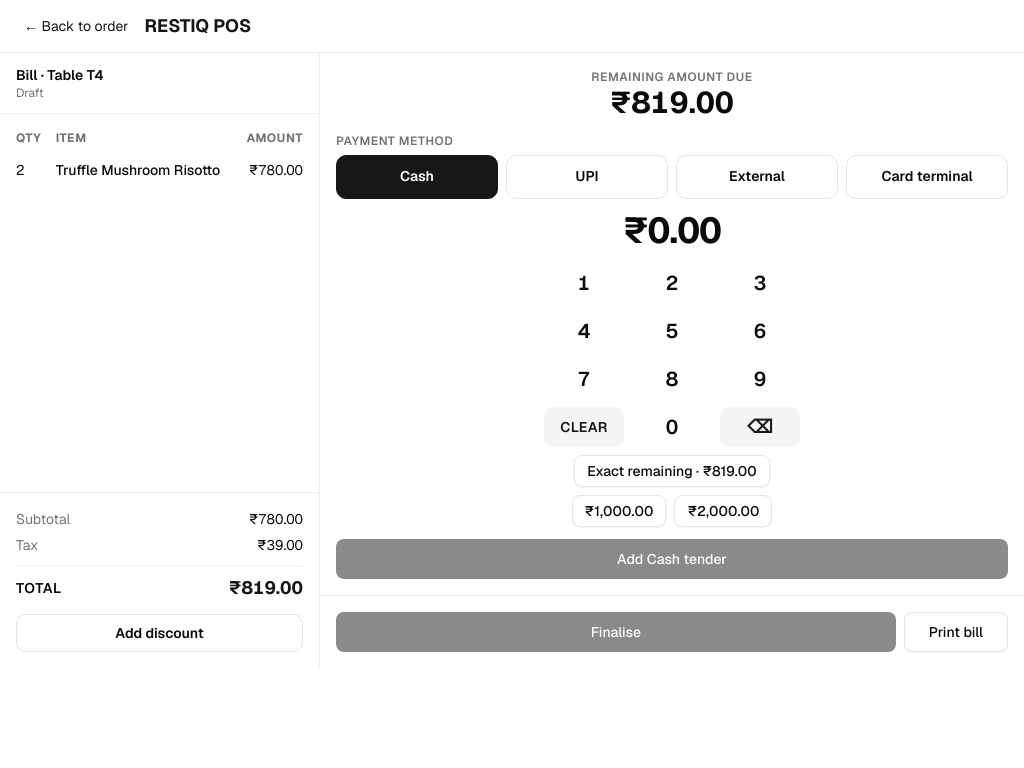
Test: BillSettleView - tenders › keys whole rupees and shows the amount live while typing (issues #306, #406)
The image size is (1024, 768).
Expected: the element with test id "bill-summary" is shown, [0,53,320,668]
Click the button "6": [760, 330] box [720,310,800,350]
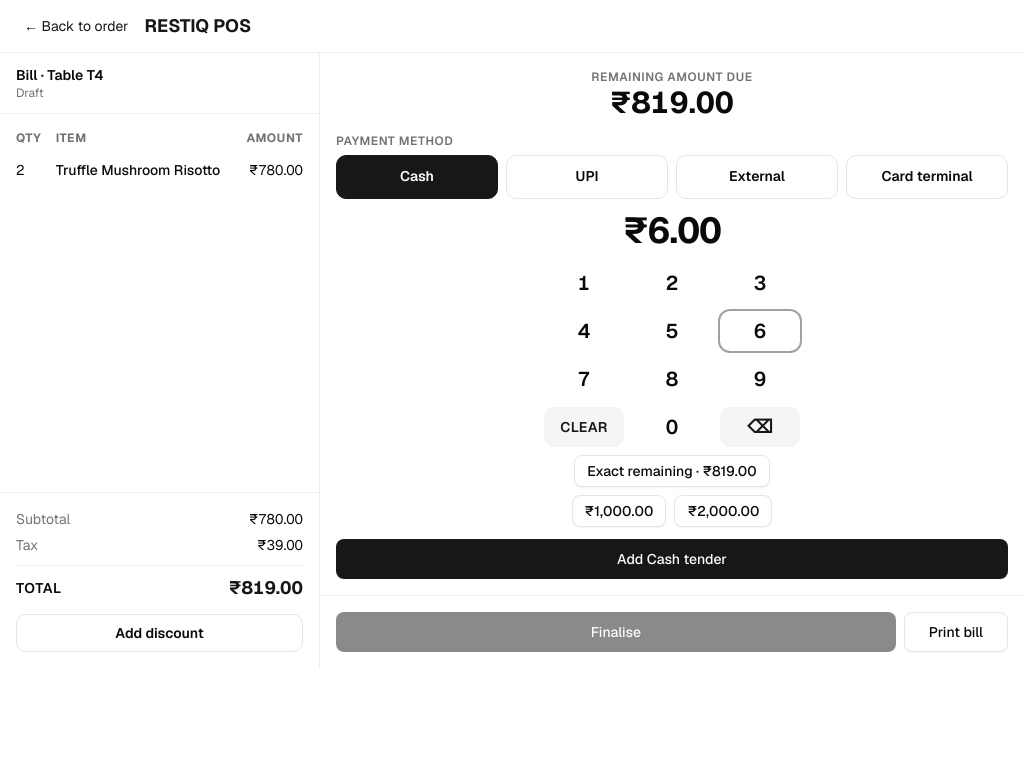
Click the button "0": [672, 426] box [632,406,712,446]
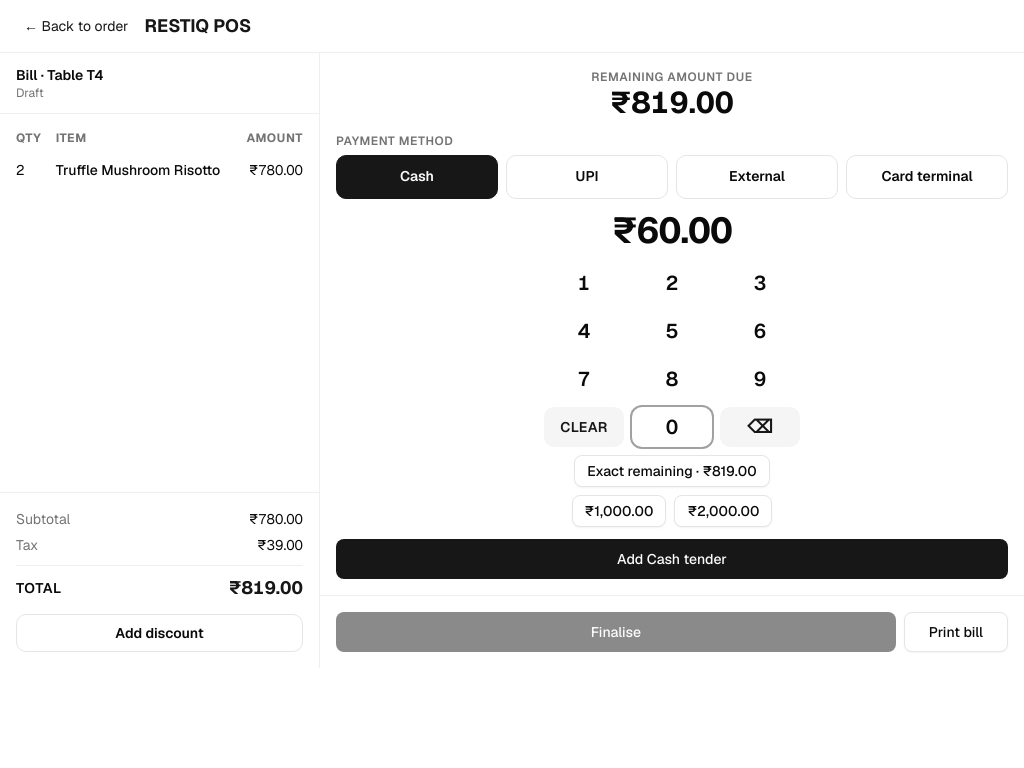
Now the text with test id "tender-keypad-amount-display" reads "₹60.00", box [612,206,732,254]
Click the button with test id "tender-add": [672, 558] box [336,538,1008,578]
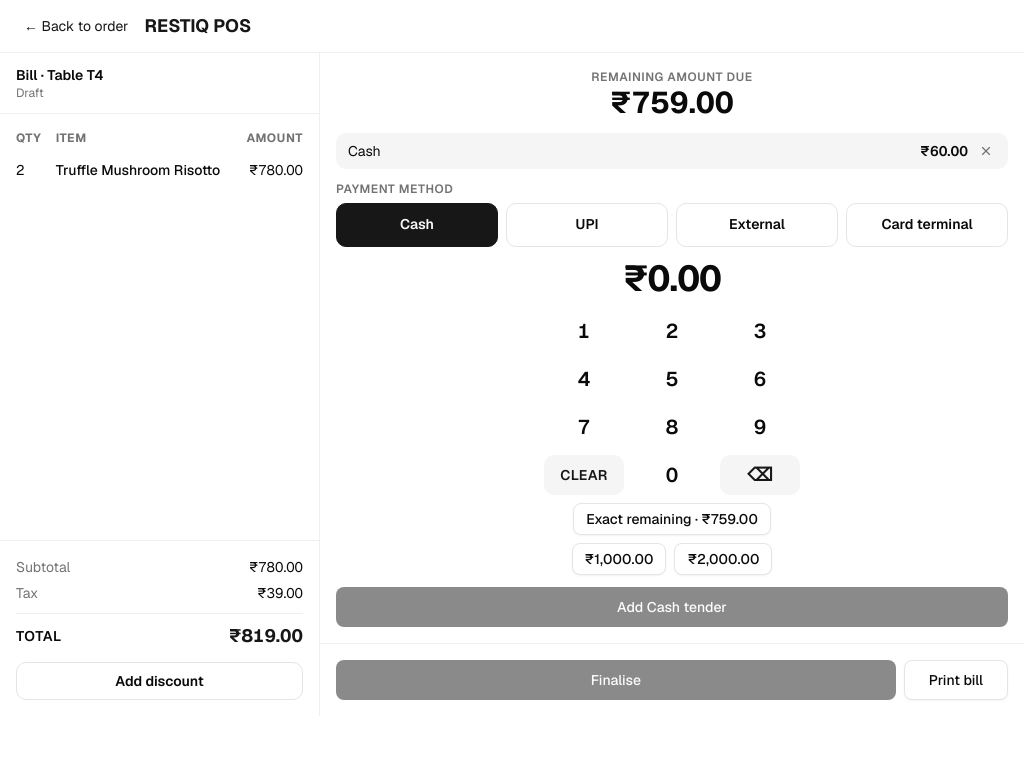
Now the list item with test id "tender-captured-0" shows "₹60.00", box [920,142,968,160]
Now the text with test id "tender-remaining" reads "₹759.00", box [610,83,734,122]
